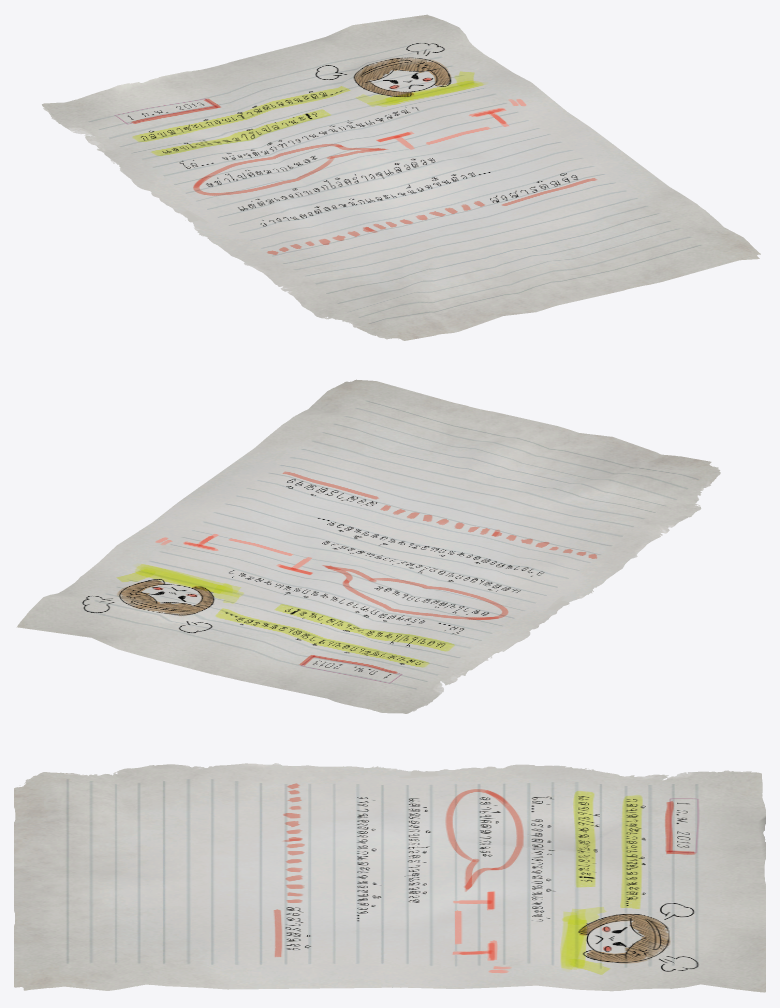
File: diary04.FBX
The picture shows the model from 3 angles, top to bottom: view 1: azimuth 30°, elevation 25°; view 2: azimuth 150°, elevation 25°; view 3: azimuth 270°, elevation 25°; orthographic projection. The views are drawn at different scales.
Visible parts, largest first — view 1: SM_Diary2; view 2: SM_Diary2; view 3: SM_Diary2.
Part boxes in pixels (<box>): SM_Diary2: <box>42,14,760,340</box>; SM_Diary2: <box>16,379,720,713</box>; SM_Diary2: <box>14,763,765,992</box>.
Size of the model in its own units: 18.8 by 0.5262 by 26.3.
1 material, 1 textured.
